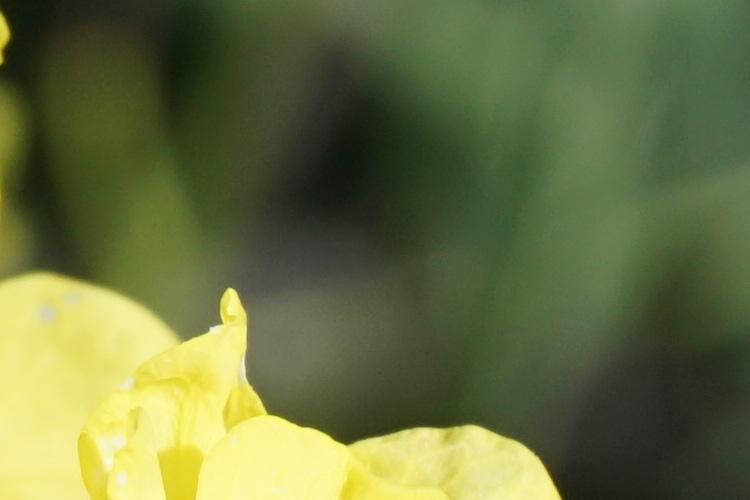yellow: (4, 266, 558, 500)
